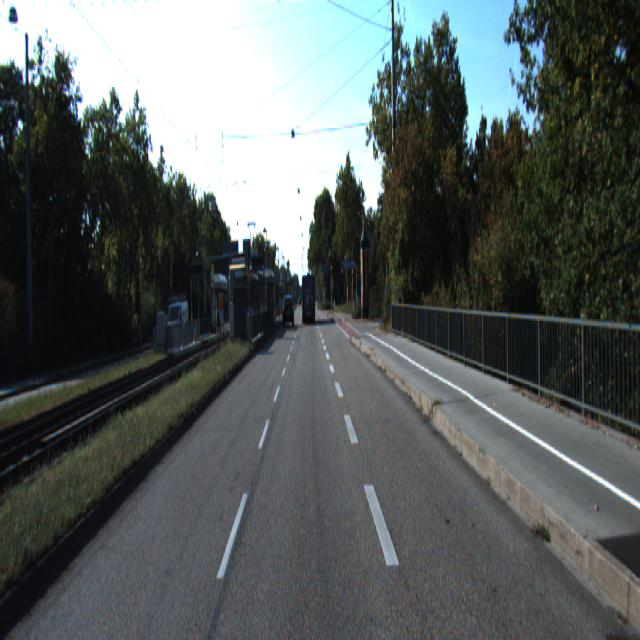Car: (283, 296, 294, 327)
Tram: (227, 262, 264, 342)
Truck: (302, 273, 316, 324)
Van: (165, 304, 189, 349)
